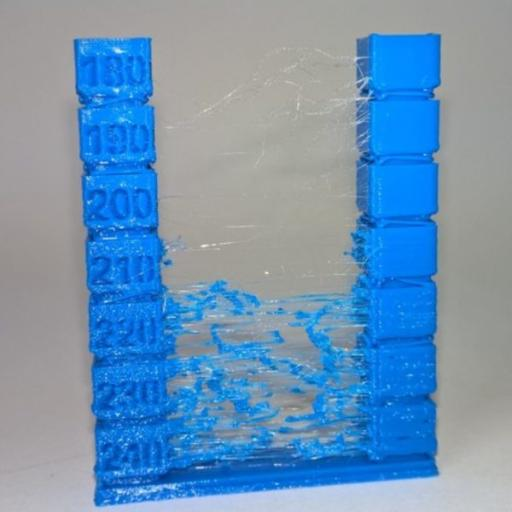stringing: (166, 220, 362, 467), (161, 30, 370, 171)
